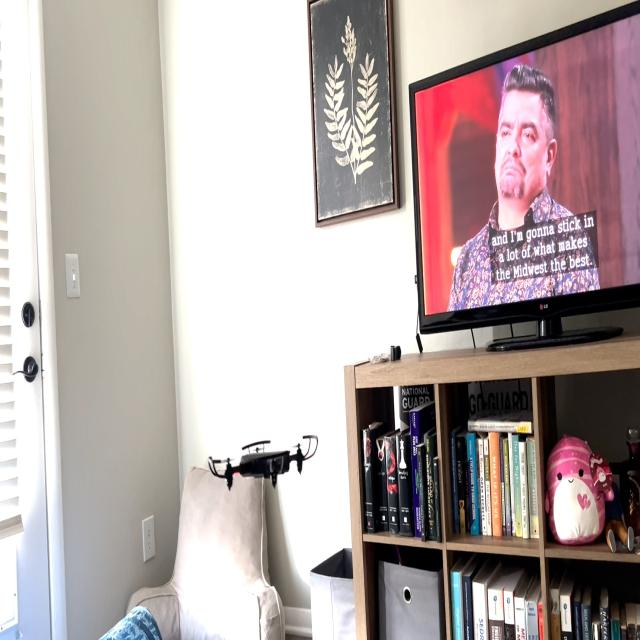drone: (202, 416, 322, 502)
